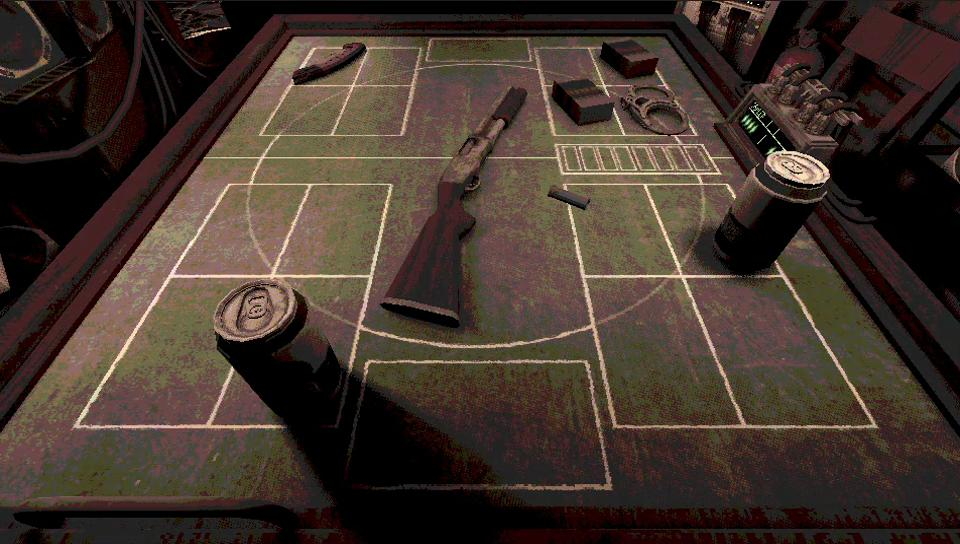ally: (0, 145, 959, 516)
can: (211, 276, 345, 422), (715, 149, 832, 277)
cigar: (549, 72, 619, 125), (599, 37, 660, 77)
doubledamage: (291, 39, 366, 81)
emptyspace: (690, 271, 884, 427), (78, 272, 245, 427), (584, 274, 745, 428), (176, 185, 311, 273), (563, 180, 683, 274), (273, 184, 391, 276)
enemyspace: (201, 23, 756, 160)
gun: (377, 85, 524, 326)
handcuff: (622, 81, 695, 133)
